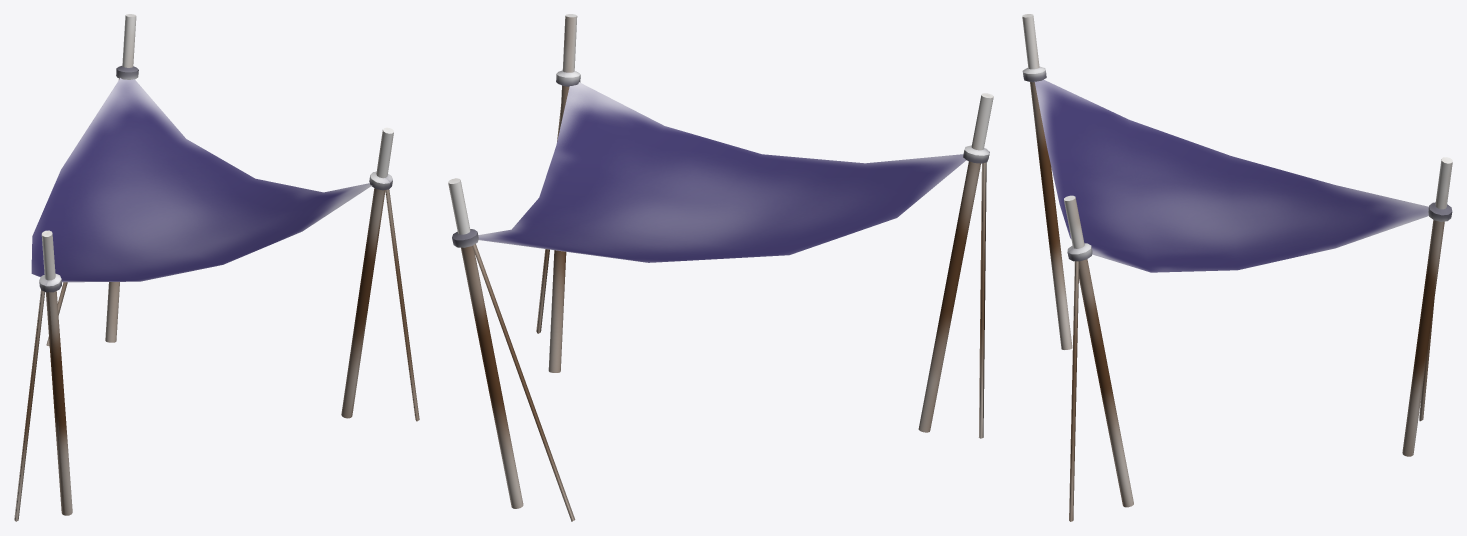
The model's file is Tarp_TEX.FBX.
The picture shows the model from 3 angles, left to right: view 1: azimuth 30°, elevation 25°; view 2: azimuth 150°, elevation 25°; view 3: azimuth 270°, elevation 25°; orthographic projection. The views are drawn at different scales.
Parts seen in each view (by area): view 1: Plane003; view 2: Plane003; view 3: Plane003.
Part boxes in pixels (x1,y1,x2,y2): Plane003: (14,14,419,521); Plane003: (448,14,993,521); Plane003: (1022,14,1452,521).
Bounding box in the file's own units: 55.72 × 39.8 × 49.35.
1 material, 1 textured.
